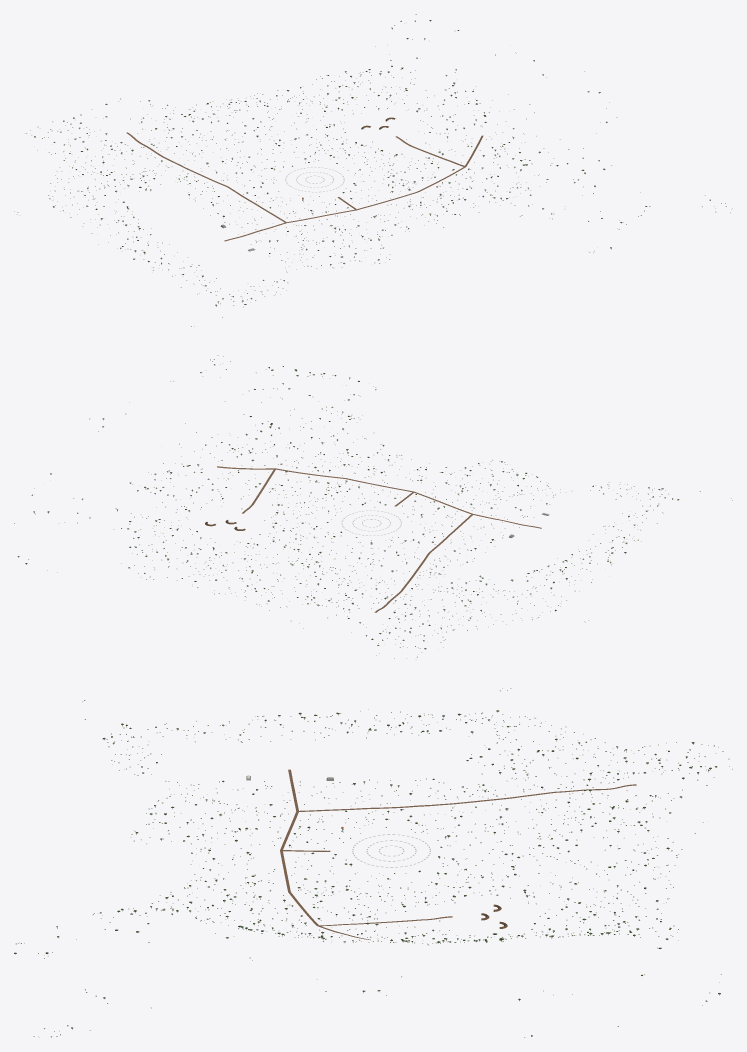
The model's file is range-dressing.glb.
The picture shows the model from 3 angles, top to bottom: view 1: azimuth 30°, elevation 25°; view 2: azimuth 150°, elevation 25°; view 3: azimuth 270°, elevation 25°; orthographic projection. The views are drawn at different scales.
Visible parts, largest first — view 1: Range tree crowns, Range roads, Range dry bushes, Range bushes; view 2: Range tree crowns, Range roads, Range dry bushes, Range bushes; view 3: Range tree crowns, Range roads, Range dry bushes, Range bushes.
Boxes of the visible parts, left/top/right/bottom form: Range tree crowns: left=34, top=20, right=710, bottom=305; Range roads: left=126, top=132, right=483, bottom=241; Range dry bushes: left=14, top=14, right=732, bottom=326; Range bushes: left=17, top=71, right=731, bottom=307; Range tree crowns: left=18, top=364, right=679, bottom=649; Range roads: left=217, top=466, right=541, bottom=612; Range dry bushes: left=14, top=356, right=732, bottom=658; Range bushes: left=17, top=355, right=668, bottom=653; Range tree crowns: left=14, top=710, right=720, bottom=1036; Range roads: left=280, top=769, right=636, bottom=940; Range dry bushes: left=16, top=688, right=732, bottom=1037; Range bushes: left=19, top=688, right=729, bottom=1037.
Bounding box in the file's own units: 2033 × 183 × 1761.
